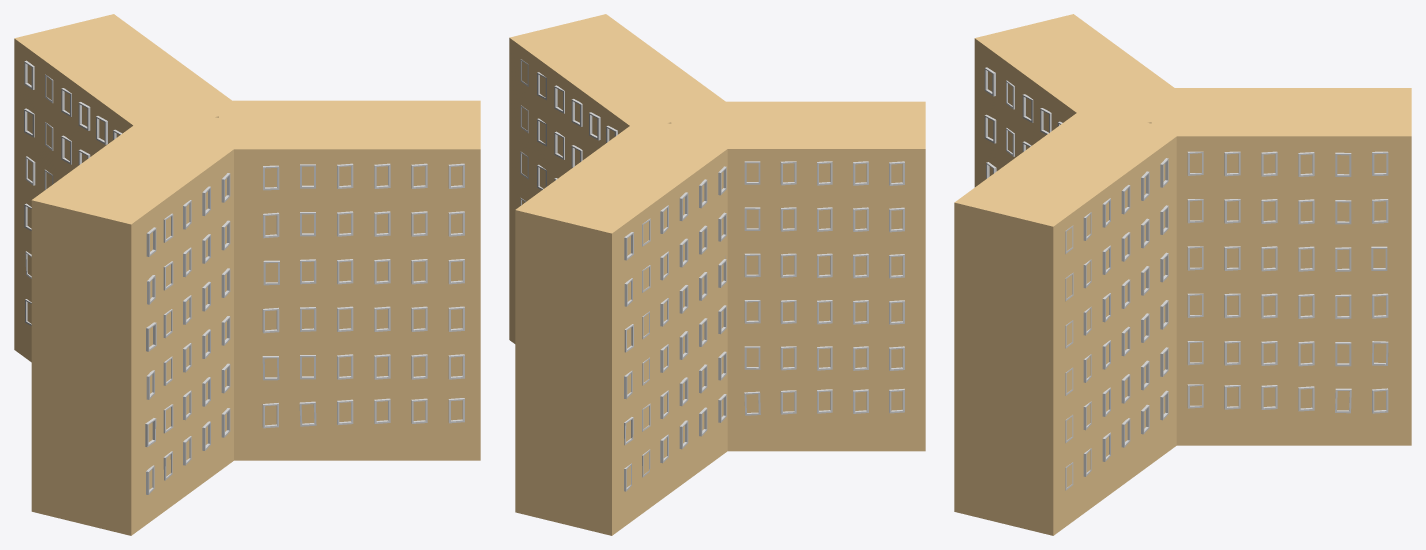
The model's file is KungFu1.fbx.
The picture shows the model from 3 angles, left to right: view 1: azimuth 30°, elevation 25°; view 2: azimuth 150°, elevation 25°; view 3: azimuth 270°, elevation 25°; orthographic projection. The views are drawn at different scales.
Parts seen in each view (by area): view 1: Cube.003, 立方體.039, 立方體.037, 立方體.038; view 2: Cube.003, 立方體.038, 立方體.036; view 3: Cube.003, 立方體.040, 立方體.037.
Boxes of the visible parts, box(x1,y1,x2,y2) form: Cube.003: box(14, 14, 480, 535); 立方體.039: box(262, 163, 464, 428); 立方體.037: box(145, 173, 230, 494); 立方體.038: box(24, 60, 122, 325); Cube.003: box(509, 14, 925, 535); 立方體.038: box(624, 166, 726, 491); 立方體.036: box(725, 161, 904, 415); Cube.003: box(954, 14, 1411, 535); 立方體.040: box(1187, 151, 1388, 413); 立方體.037: box(984, 67, 1062, 178).
Size of the model in its own units: 1928 by 1307 by 1752.
